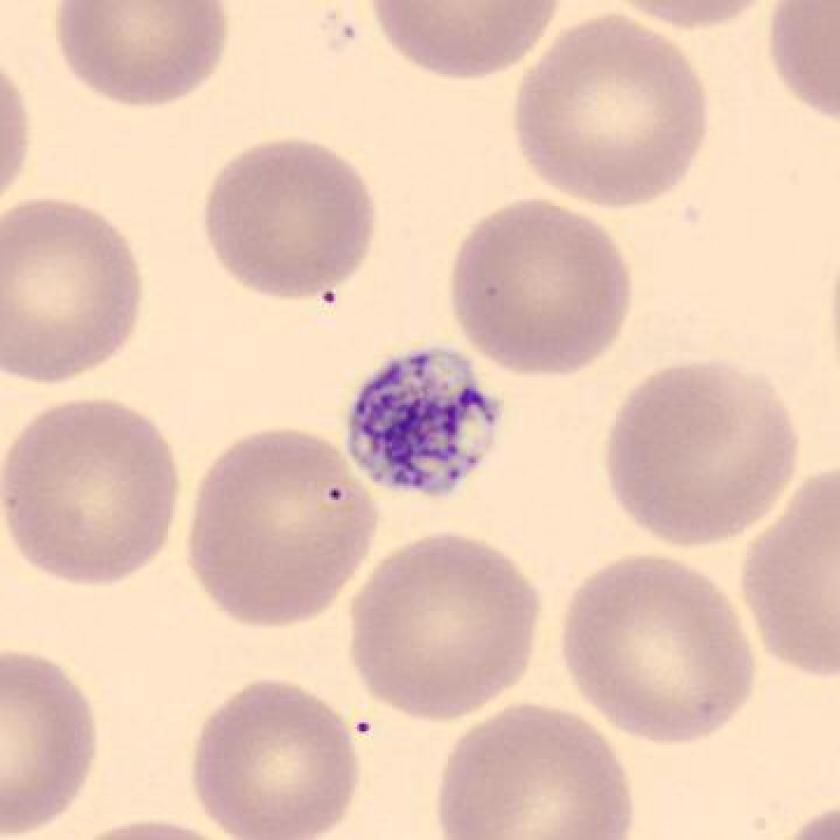platelets: (333, 337, 515, 508)
